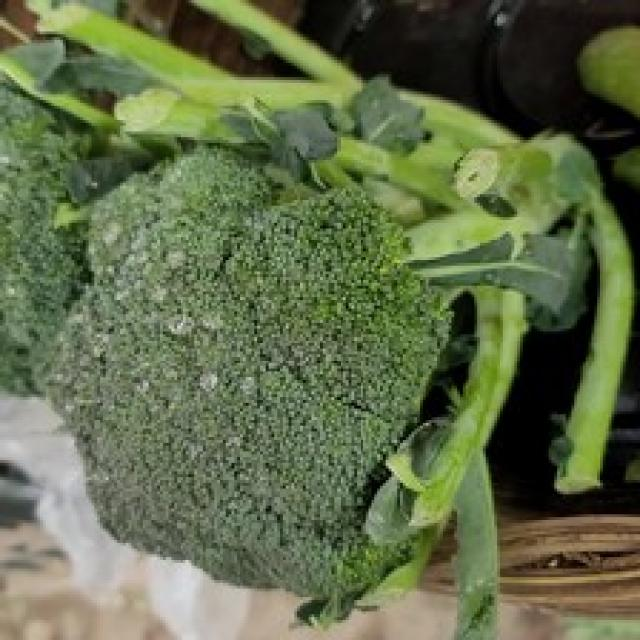Broccoli: (48, 149, 449, 596), (49, 150, 449, 597), (0, 84, 89, 393)
